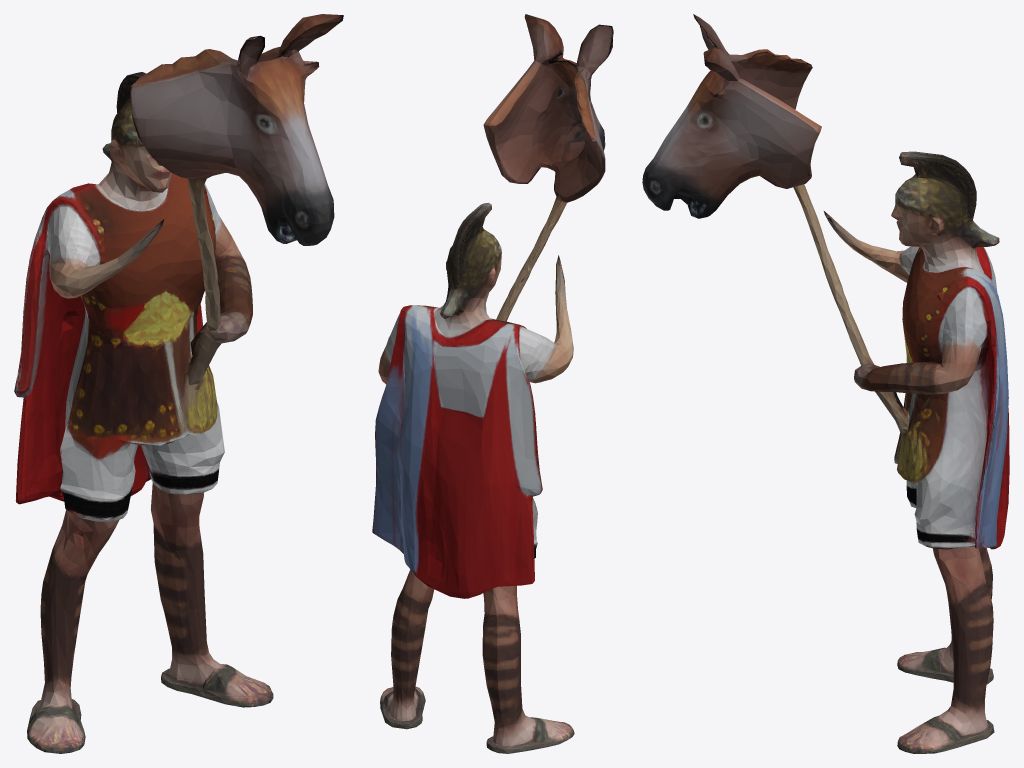
The model's file is romans.glb.
The picture shows the model from 3 angles, left to right: view 1: azimuth 30°, elevation 25°; view 2: azimuth 150°, elevation 25°; view 3: azimuth 270°, elevation 25°; orthographic projection. The views are drawn at different scales.
Parts seen in each view (by area): view 1: world; view 2: world; view 3: world.
Boxes of the visible parts, x1=… form: world: x1=14, y1=14, x2=343, y2=753; world: x1=372, y1=14, x2=613, y2=753; world: x1=642, y1=14, x2=1009, y2=753.
Bounding box in the file's own units: 0.3118 × 0.9995 × 0.4923.
Materials: 1 (1 with a texture image).
